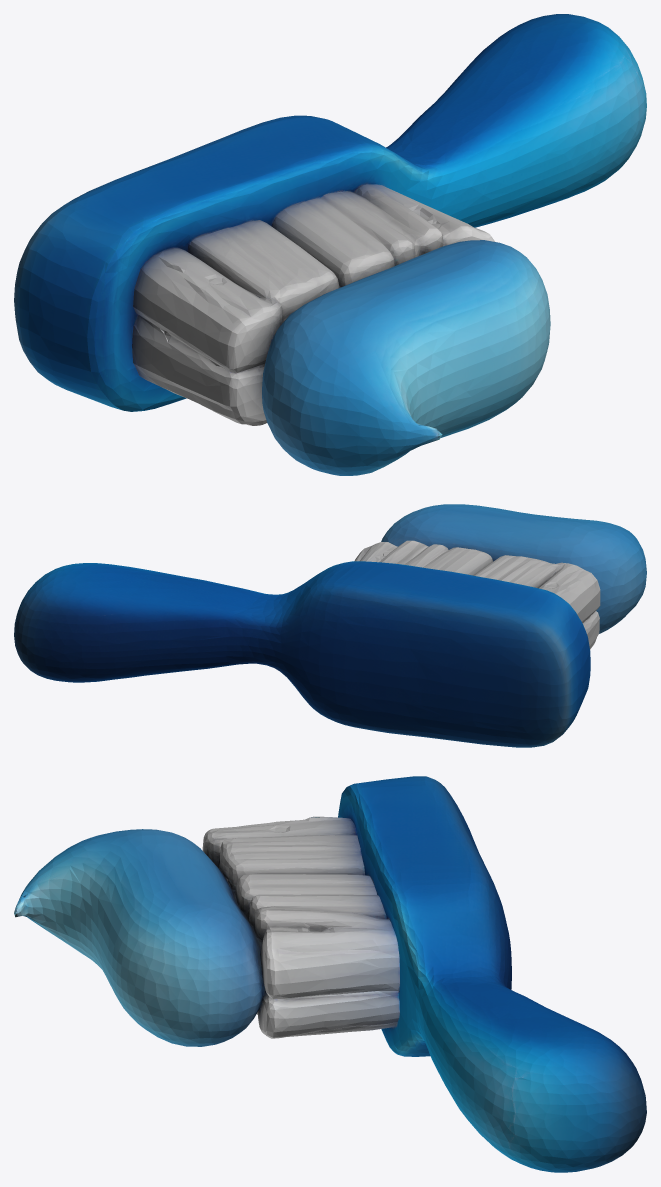
Rendered from Fluor.fbx.
3 views of the same model, one above another, from view 1: azimuth 30°, elevation 25°; view 2: azimuth 150°, elevation 25°; view 3: azimuth 270°, elevation 25° (orthographic). The views are drawn at different scales.
Parts seen in each view (by area): view 1: geometry_0.001; view 2: geometry_0.001; view 3: geometry_0.001.
Boxes of the visible parts, x1,y1,x2,y2 form: geometry_0.001: (14, 14, 646, 475); geometry_0.001: (14, 504, 646, 747); geometry_0.001: (14, 776, 646, 1172).
Size of the model in its own units: 0.3788 by 0.1042 by 0.3458.
1 material, 1 textured.
